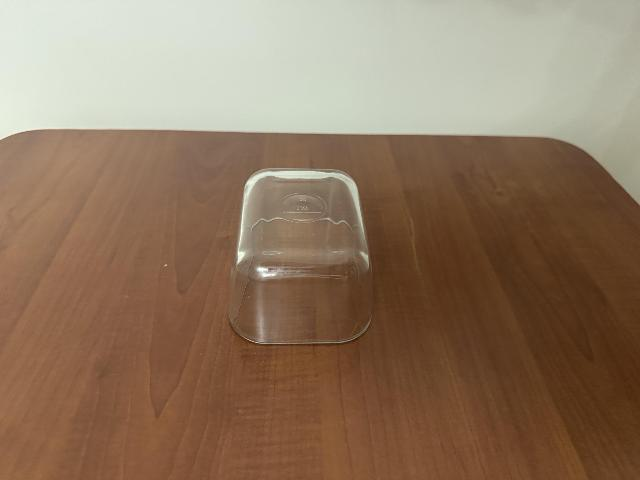Cam: (227, 168, 375, 344)
